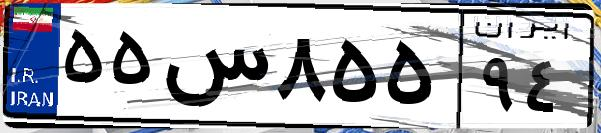4: (525, 38, 570, 115)
5: (385, 28, 445, 110), (330, 28, 385, 110), (57, 26, 110, 100), (110, 28, 158, 98)
8: (270, 28, 330, 110)
9: (475, 38, 525, 113)
س: (158, 20, 270, 120)
